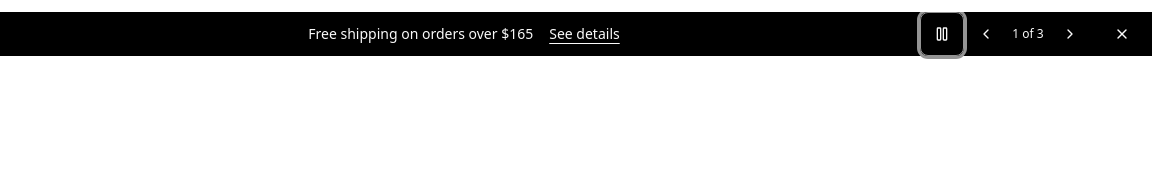
Test case: AnnouncementBar › while the reader is on the bar › lets Play start it even though focus is still on the button, until focus leaves
The width and height of the screenshot is (1152, 172).
Click the button named "Pause announcements": (942,34) [920,12,964,56]
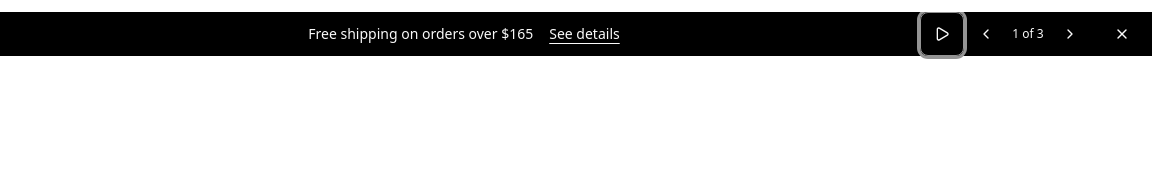
Click the button named "Play announcements": (942,34) [920,12,964,56]
Wait 66000 ms
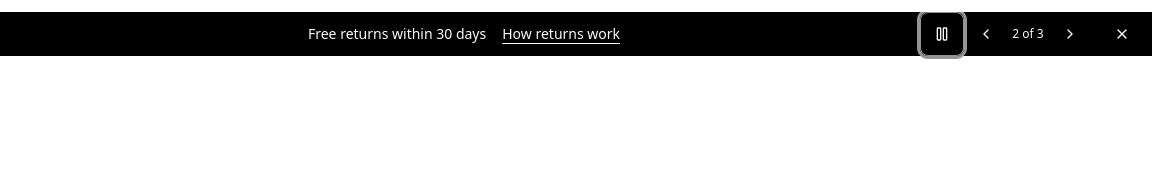
Check: the text "Free returns within 30 days" is shown, box [308,24,486,43]
